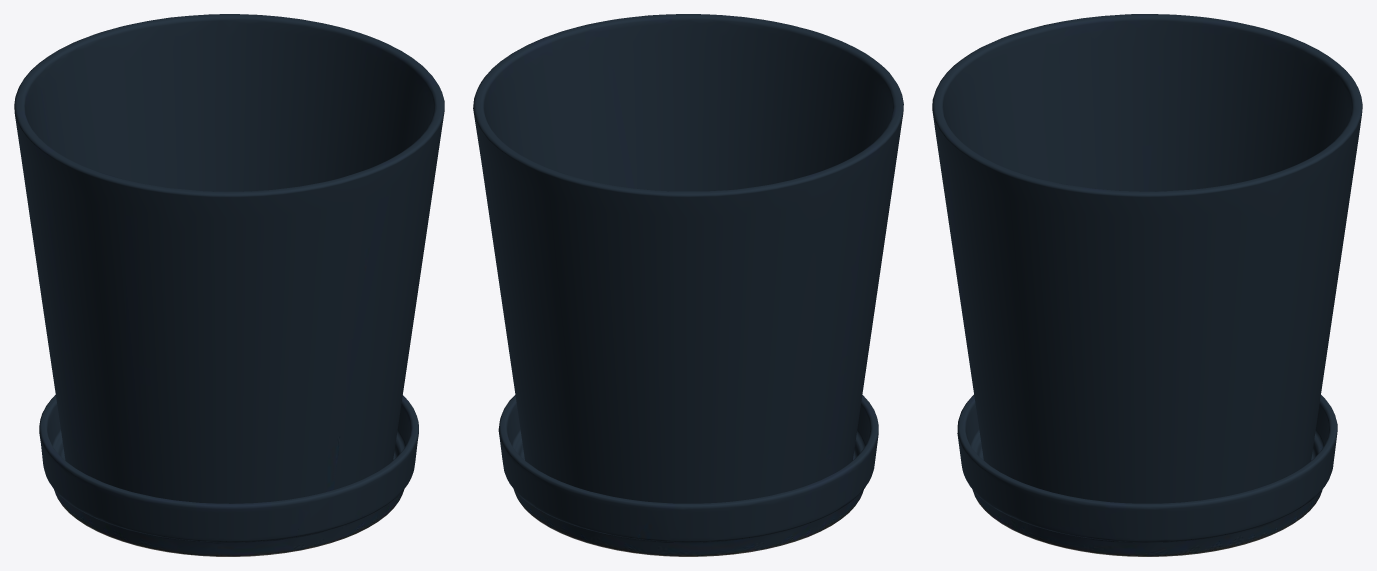
Rendered from 06 - KLOTLÖNN Plant pot with saucer - inoutdoorblack-blue 19 cm.glb.
3 renders of one model, left to right at view 1: azimuth 30°, elevation 25°; view 2: azimuth 150°, elevation 25°; view 3: azimuth 270°, elevation 25°, orthographic.
Visible parts, largest first — view 1: 10584068-KLOTLÃƒâ€“NN001; view 2: 10584068-KLOTLÃƒâ€“NN001; view 3: 10584068-KLOTLÃƒâ€“NN001.
Part boxes in pixels (x1,y1,x2,y2): 10584068-KLOTLÃƒâ€“NN001: [14, 14, 444, 556]; 10584068-KLOTLÃƒâ€“NN001: [473, 14, 903, 556]; 10584068-KLOTLÃƒâ€“NN001: [932, 14, 1362, 556].
Size of the model in its own units: 0.2302 by 0.2241 by 0.2303.
1 material, 1 textured.
